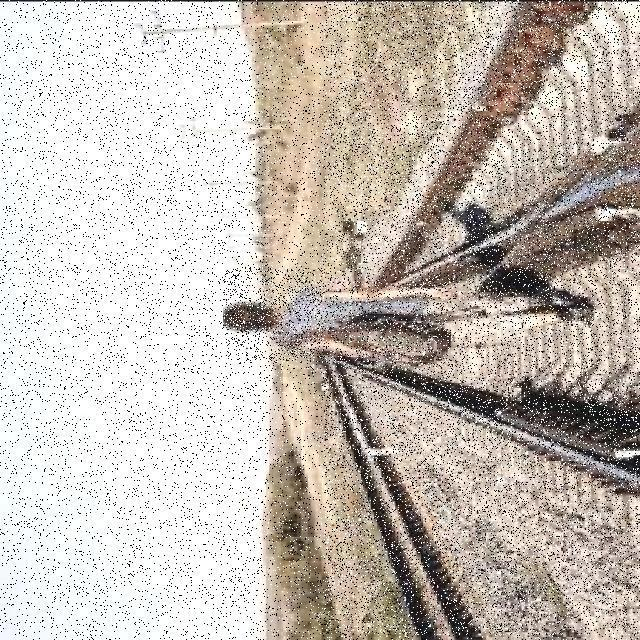danger: (224, 268, 596, 363)
rail: (324, 0, 640, 635)
